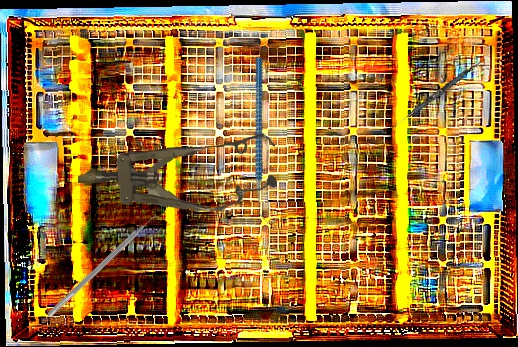Chopper: (205, 56, 320, 225)
Spatula Surgical: (46, 207, 165, 323), (389, 55, 486, 133)
Speculum: (76, 129, 278, 219)
